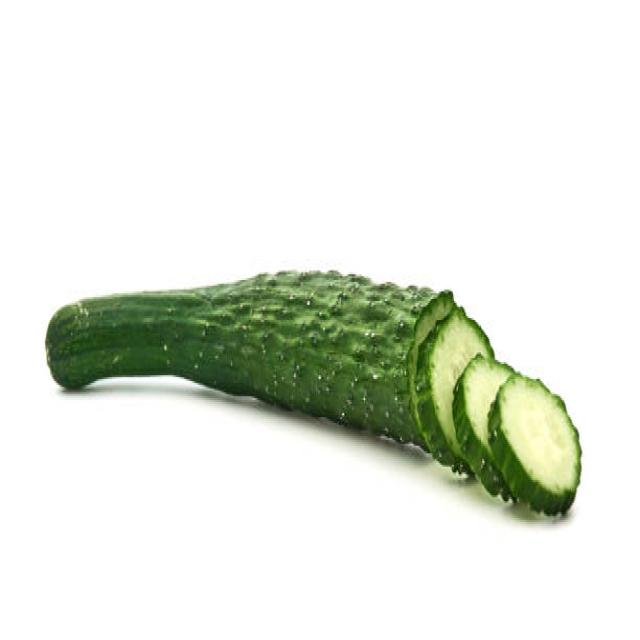cucumber: (44, 270, 583, 519)
